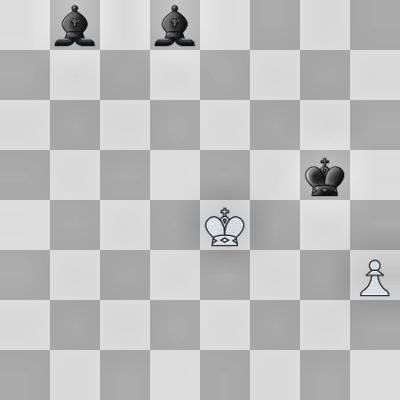black-bishop: (50, 0, 100, 50), (150, 0, 200, 50)
black-king: (300, 150, 350, 200)
white-king: (200, 200, 250, 250)
white-pawn: (350, 250, 400, 300)
